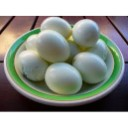begg: (45, 64, 82, 94), (37, 30, 69, 61), (73, 20, 99, 46)
